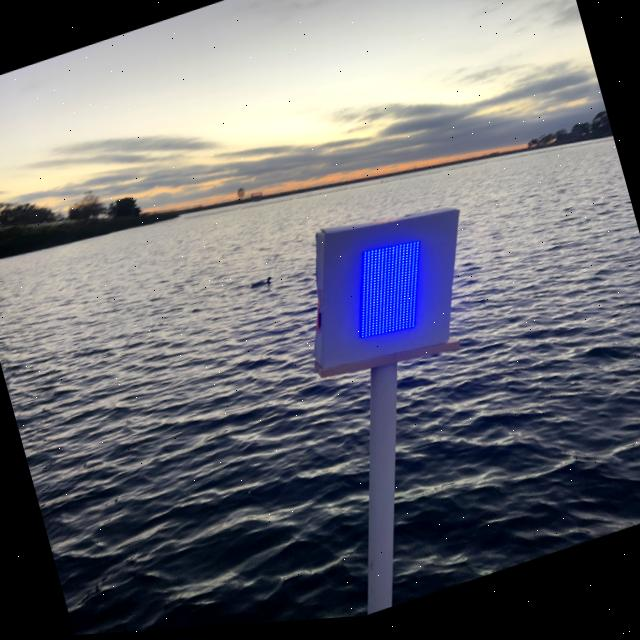led: (314, 218, 456, 378)
